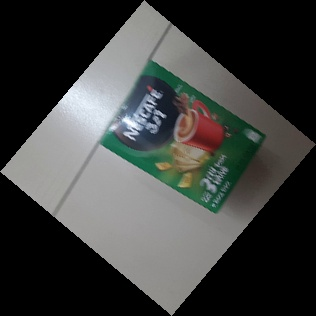Nes Rang: (97, 60, 266, 214)
